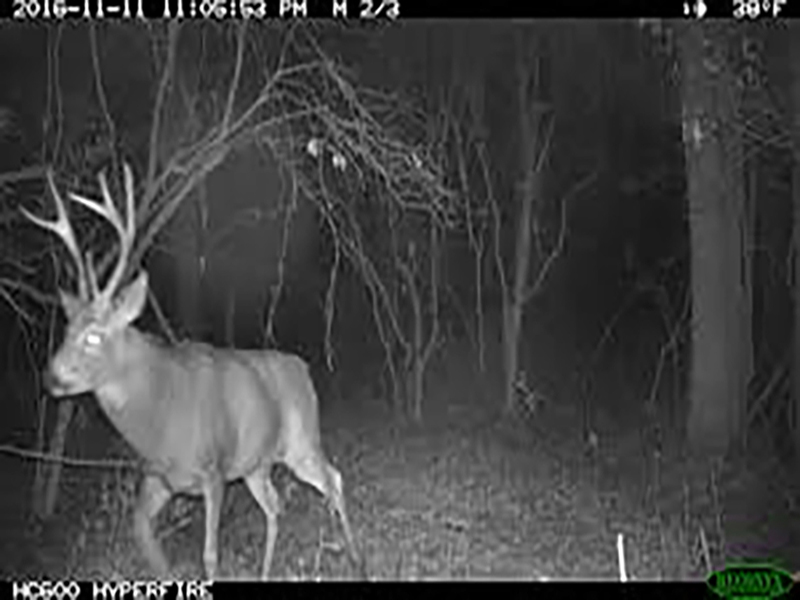cervo: (18, 171, 377, 583)
